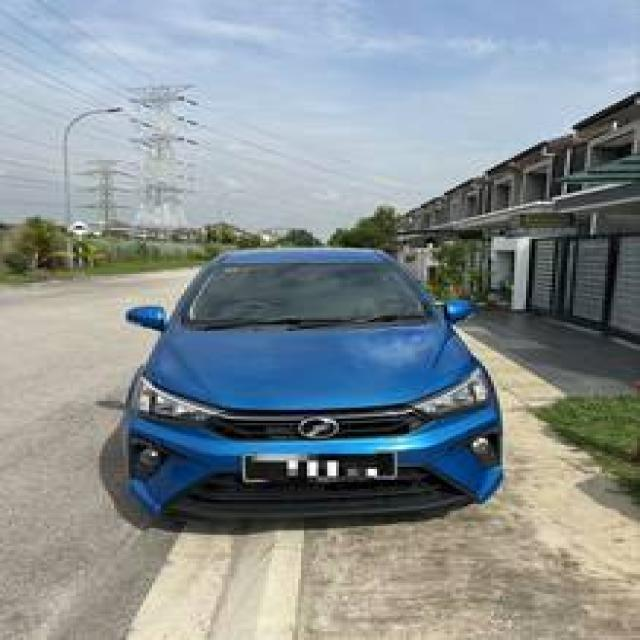PeroduaBezza: (120, 245, 504, 523)
